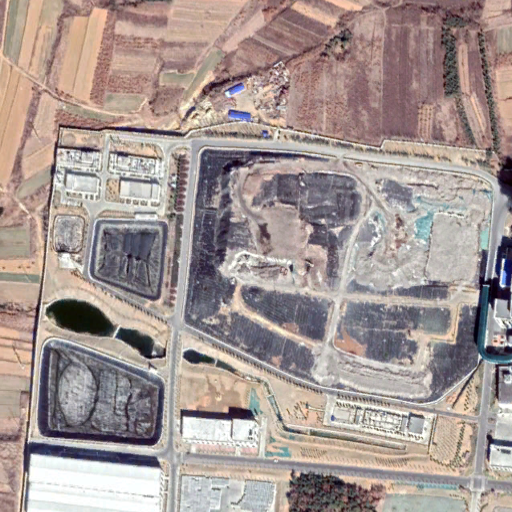lf: (182, 144, 497, 409)
